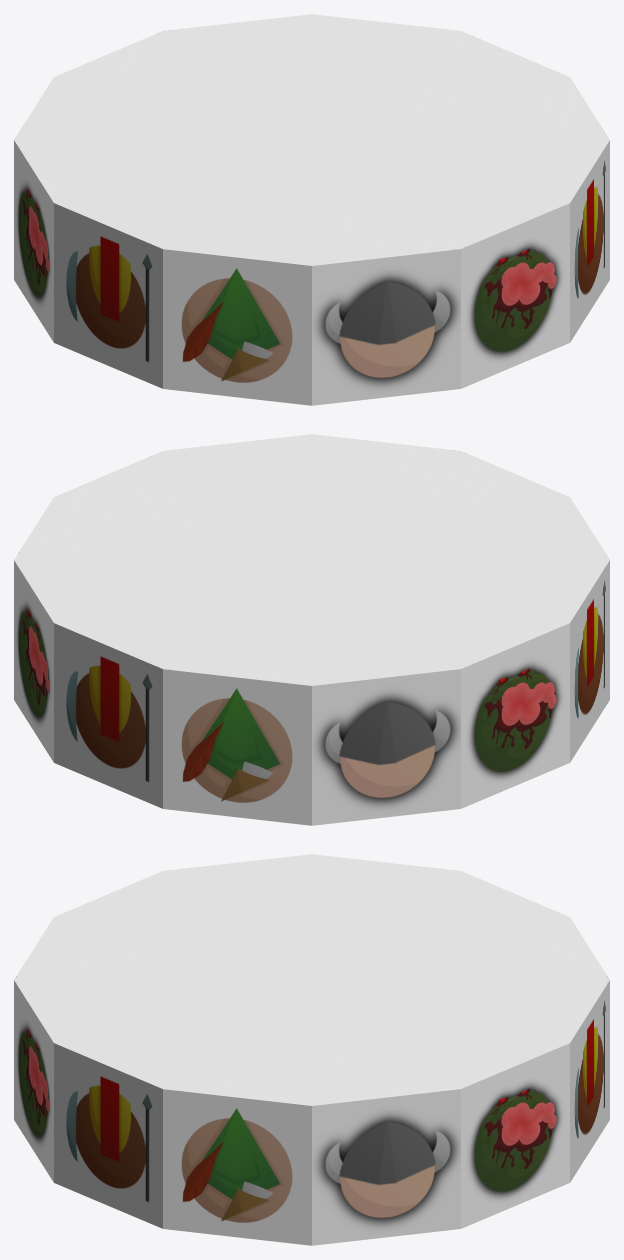
File: Rotor.fbx
The picture shows the model from 3 angles, top to bottom: view 1: azimuth 30°, elevation 25°; view 2: azimuth 150°, elevation 25°; view 3: azimuth 270°, elevation 25°; orthographic projection.
Parts seen in each view (by area): view 1: Cylinder; view 2: Cylinder; view 3: Cylinder.
Boxes of the visible parts, x1,y1,x2,y2 form: Cylinder: [14, 14, 609, 405]; Cylinder: [14, 434, 609, 825]; Cylinder: [14, 854, 609, 1245].
Size of the model in its own units: 1833 by 474 by 1833.
1 material, 1 textured.
